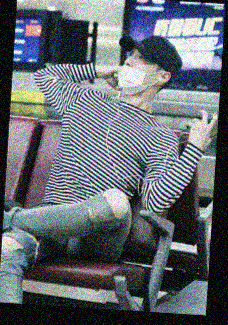mask_weared_incorrect: (117, 50, 158, 93)
